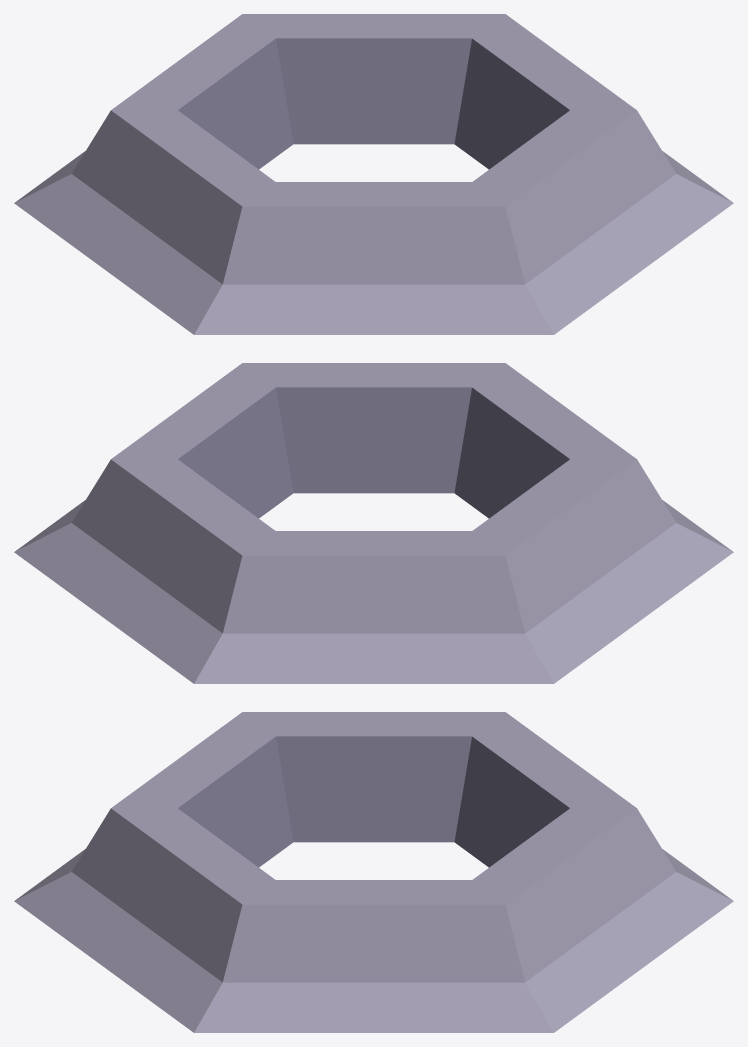
File: crater.glb
The picture shows the model from 3 angles, top to bottom: view 1: azimuth 30°, elevation 25°; view 2: azimuth 150°, elevation 25°; view 3: azimuth 270°, elevation 25°; orthographic projection.
Parts seen in each view (by area): view 1: crater; view 2: crater; view 3: crater.
Boxes of the visible parts, x1,y1,x2,y2 form: crater: (14, 14, 733, 334); crater: (14, 363, 733, 683); crater: (14, 712, 733, 1032).
Bounding box in the file's own units: 0.715 × 0.1176 × 0.8256.
